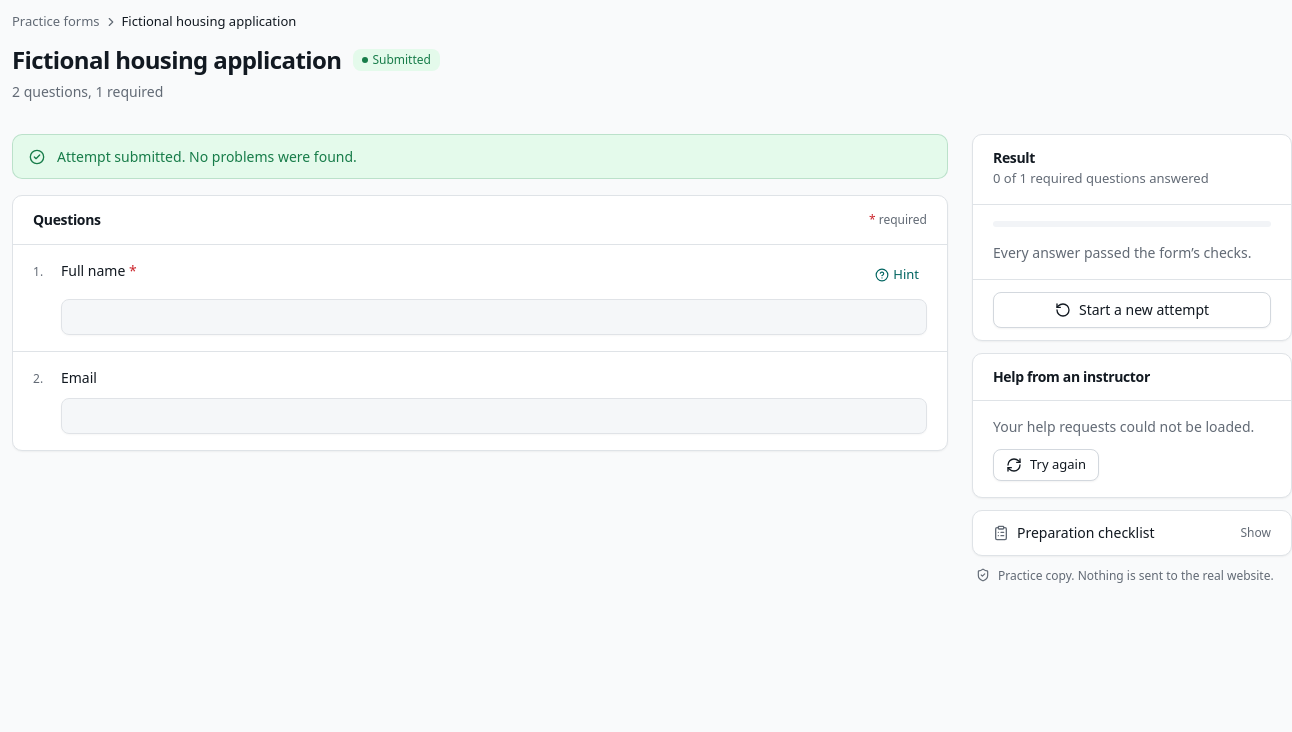
Test: US-12 field hints › does not count hints opened on a submitted attempt
Expected: the field labelled "Full name *" is shown, 61,299 -> 927,335
What coordinates should you click on to do the following:
click the button named "hint for Full name"
I would click on:
 (897, 275)
Its box is 867,261 -> 927,289.
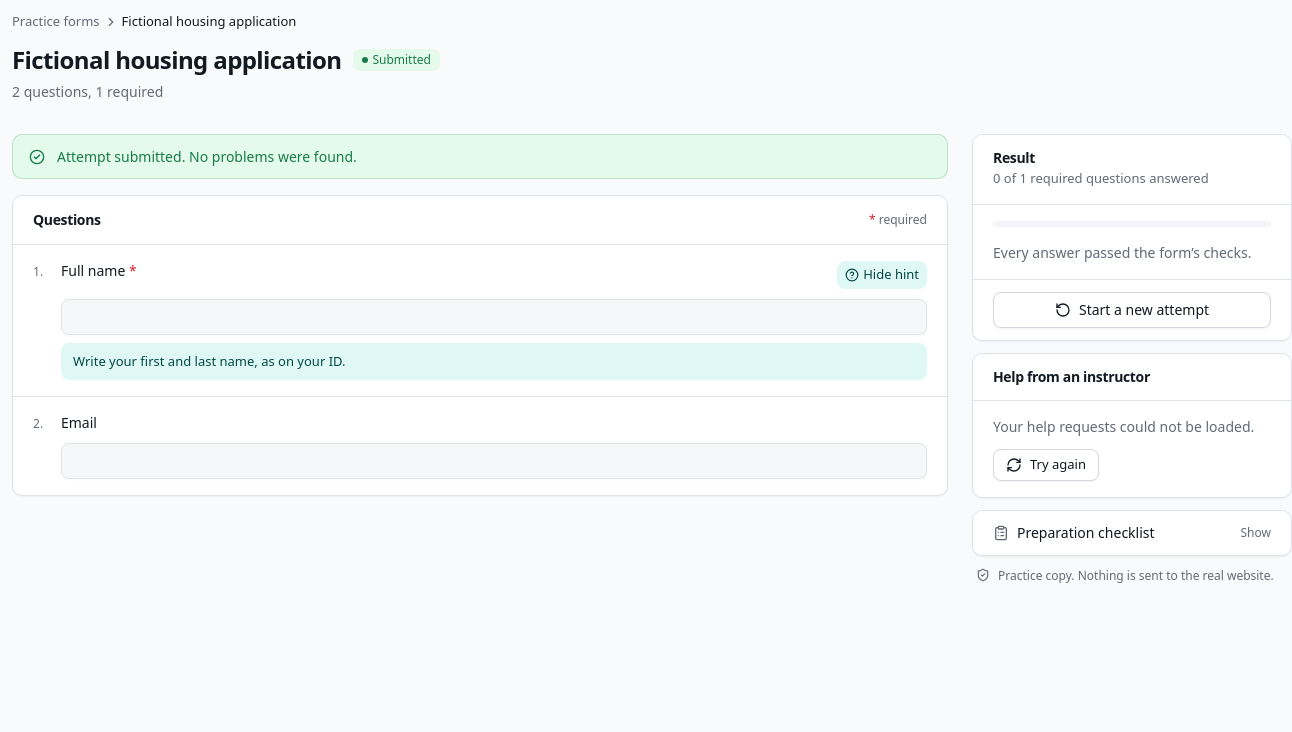
Now the text "Write your first and last name, as on your ID." is shown, box 73,352 -> 346,370
